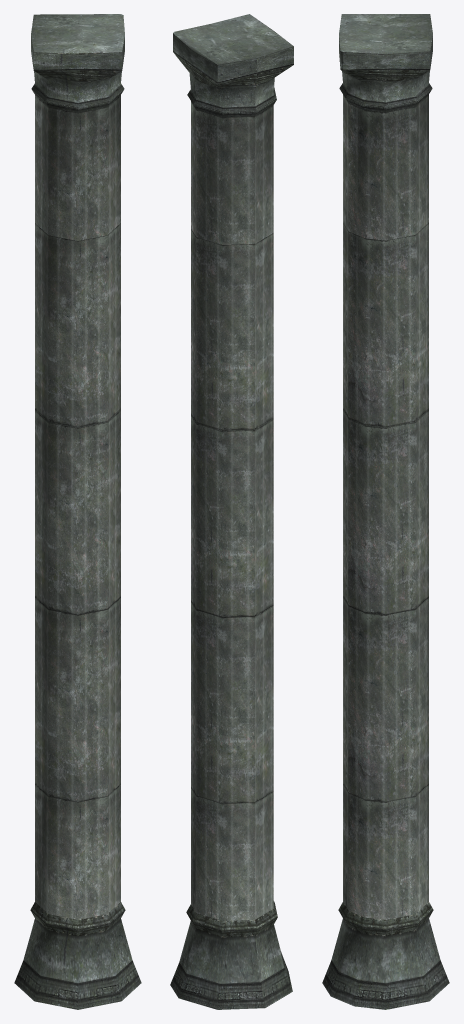
Rendered from Columnssmall_lod.fbx.
3 views of the same model, side by side, from view 1: azimuth 90°, elevation 25°; view 2: azimuth 210°, elevation 25°; view 3: azimuth 270°, elevation 25° (orthographic).
Parts seen in each view (by area): view 1: Mesh Object; view 2: Mesh Object; view 3: Mesh Object.
Boxes of the visible parts, x1,y1,x2,y2 form: Mesh Object: [14, 14, 141, 1009]; Mesh Object: [170, 14, 293, 1009]; Mesh Object: [322, 14, 449, 1009].
Bounding box in the file's own units: 0.7422 × 6.1 × 0.7411.
